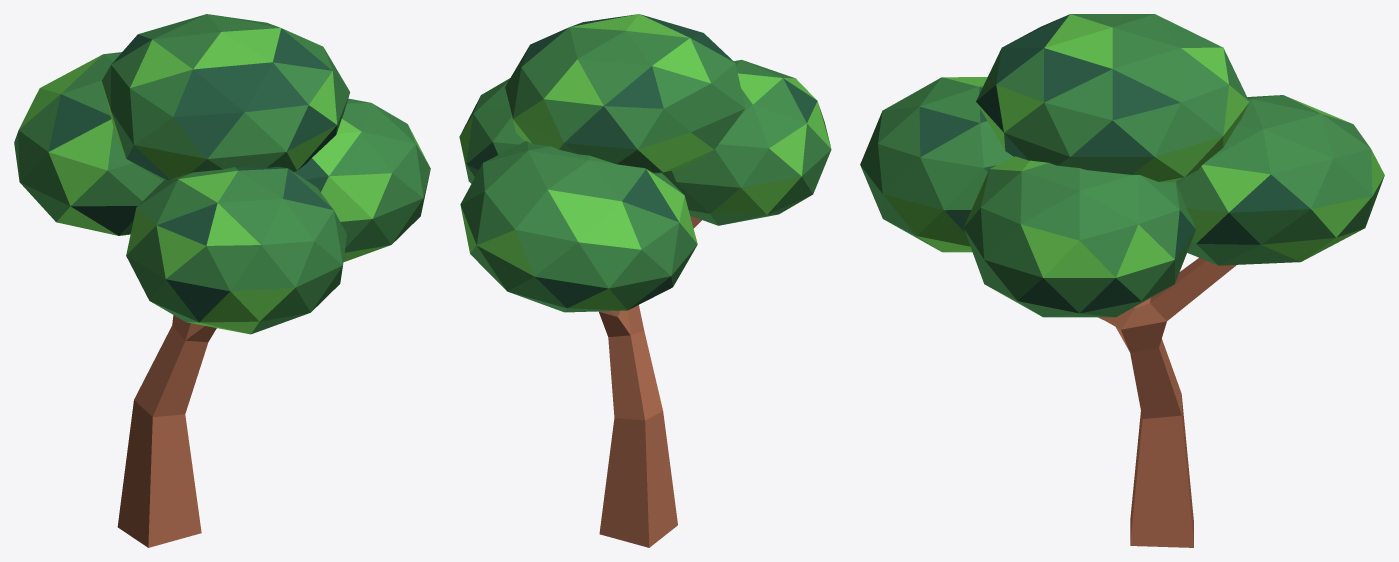
File: Tree_03.fbx
3 views of the same model, side by side, from view 1: azimuth 30°, elevation 25°; view 2: azimuth 150°, elevation 25°; view 3: azimuth 270°, elevation 25° (orthographic). The views are drawn at different scales.
Visible parts, largest first — view 1: Tree_03; view 2: Tree_03; view 3: Tree_03.
Part boxes in pixels (<box>): Tree_03: <box>14,14,430,547</box>; Tree_03: <box>459,14,831,547</box>; Tree_03: <box>860,14,1384,547</box>.
Bounding box in the file's own units: 320 × 489 × 441.
